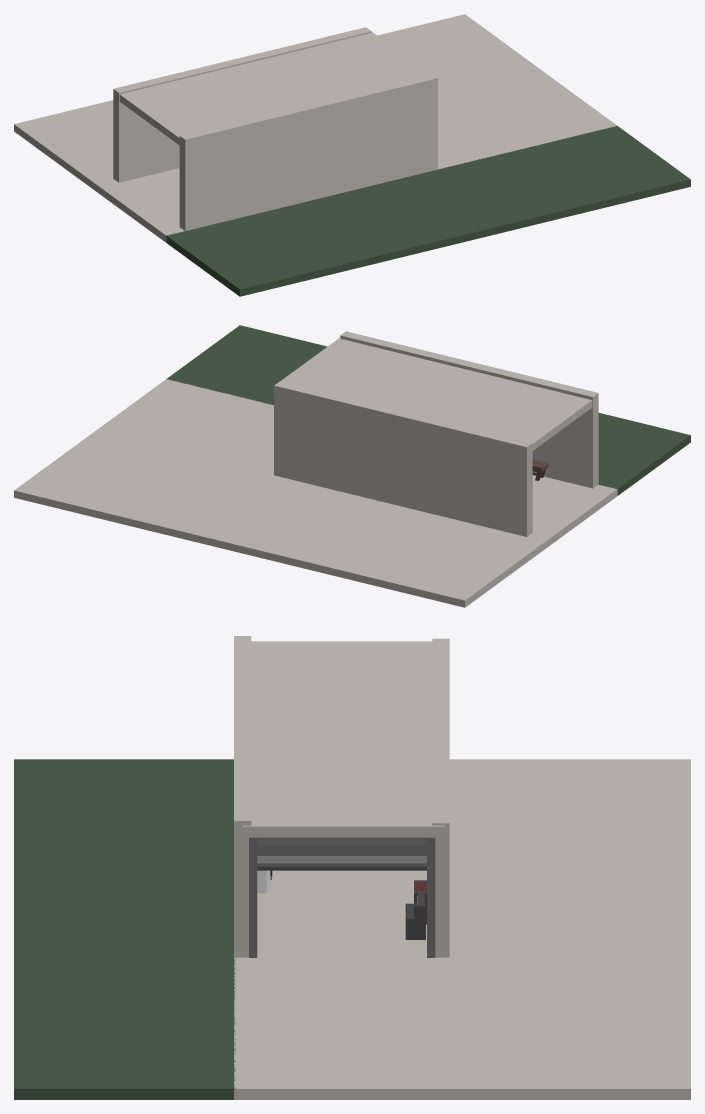
The model's file is Garage.fbx.
The picture shows the model from 3 angles, top to bottom: view 1: azimuth 30°, elevation 25°; view 2: azimuth 150°, elevation 25°; view 3: azimuth 270°, elevation 25°; orthographic projection. The views are drawn at different scales.
Parts seen in each view (by area): view 1: Floor1, Floor, Wall1, Ceiling, Wall0; view 2: Floor, Wall0, Ceiling, Floor1, Wall1; view 3: Floor, Floor1, Ceiling, SideWall1, Wall1, Wall0, BigCab.
Boxes of the visible parts, x1,y1,x2,y2 form: Floor1: (166,126,690,296); Floor: (14,14,616,242); Wall1: (179,74,437,231); Ceiling: (119,32,429,145); Wall0: (113,27,371,182); Floor: (14,379,617,607); Wall0: (274,381,532,536); Ceiling: (280,337,592,450); Floor1: (166,325,690,495); Wall1: (340,331,598,488); Floor: (234,759,690,1099); Floor1: (14,759,235,1099); Ceiling: (242,641,445,837); SideWall1: (249,837,435,957); Wall1: (234,636,251,957); Wall0: (432,638,449,957); BigCab: (405,891,425,939).
Size of the model in its own units: 112 by 23.34 by 96.9.
